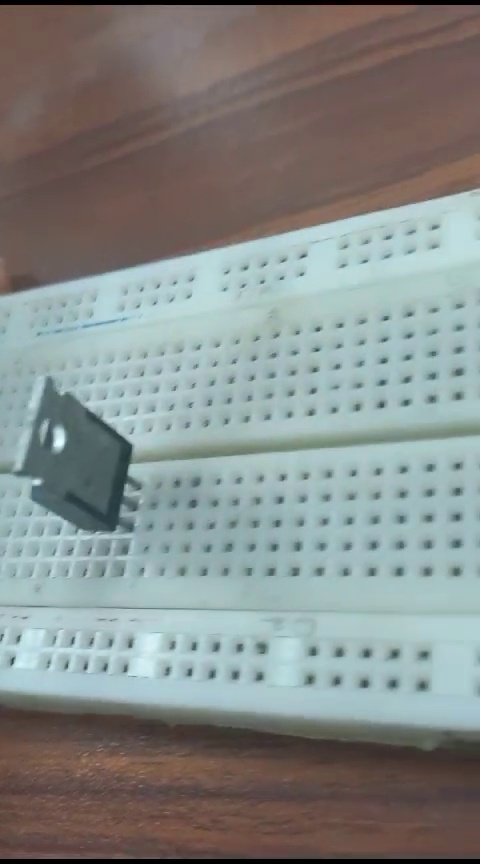voltage regulator: (8, 368, 144, 540)
